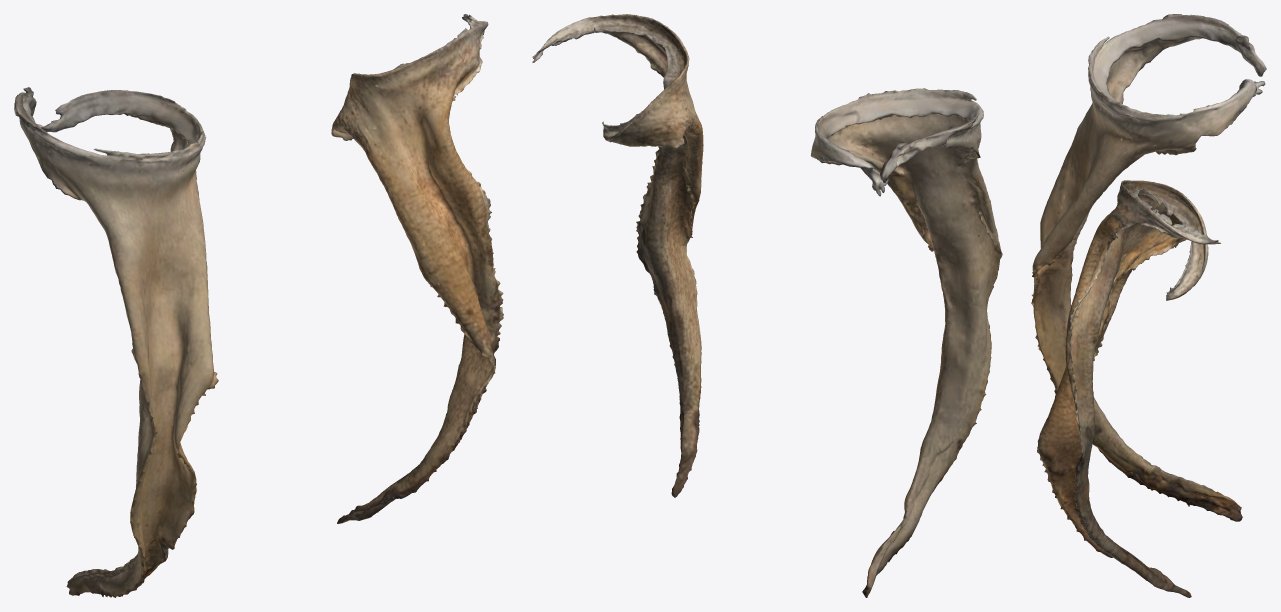
3 views of the same model, side by side, from view 1: azimuth 30°, elevation 25°; view 2: azimuth 150°, elevation 25°; view 3: azimuth 270°, elevation 25° (orthographic). The views are drawn at different scales.
Parts seen in each view (by area): view 1: dry_quiver_leaf_a, dry_quiver_leaf_b; view 2: dry_quiver_leaf_a, dry_quiver_leaf_b; view 3: dry_quiver_leaf_a, dry_quiver_leaf_b.
Boxes of the visible parts, x1=… form: dry_quiver_leaf_a: x1=14, y1=87, x2=218, y2=597; dry_quiver_leaf_b: x1=331, y1=14, x2=503, y2=523; dry_quiver_leaf_a: x1=810, y1=88, x2=1002, y2=597; dry_quiver_leaf_b: x1=532, y1=14, x2=703, y2=497; dry_quiver_leaf_a: x1=1031, y1=14, x2=1266, y2=521; dry_quiver_leaf_b: x1=1037, y1=180, x2=1220, y2=597.
Size of the model in its own units: 0.3967 by 0.425 by 0.1918.
Materials: 1 (1 with a texture image).
